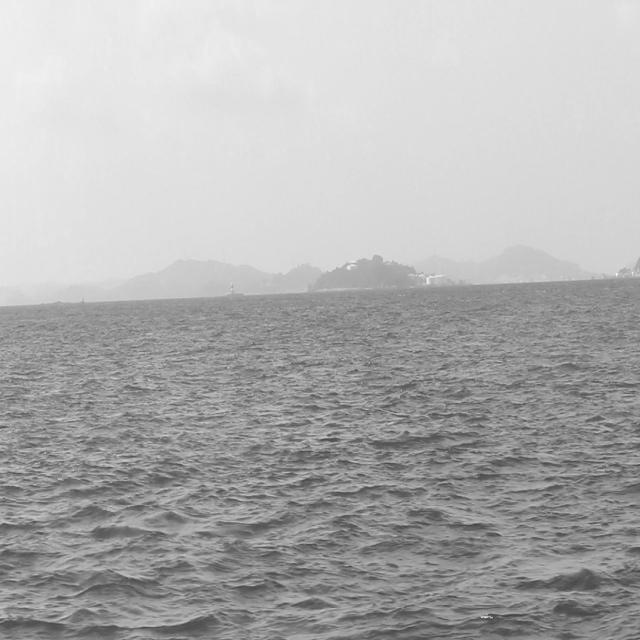boat: (222, 275, 243, 300)
